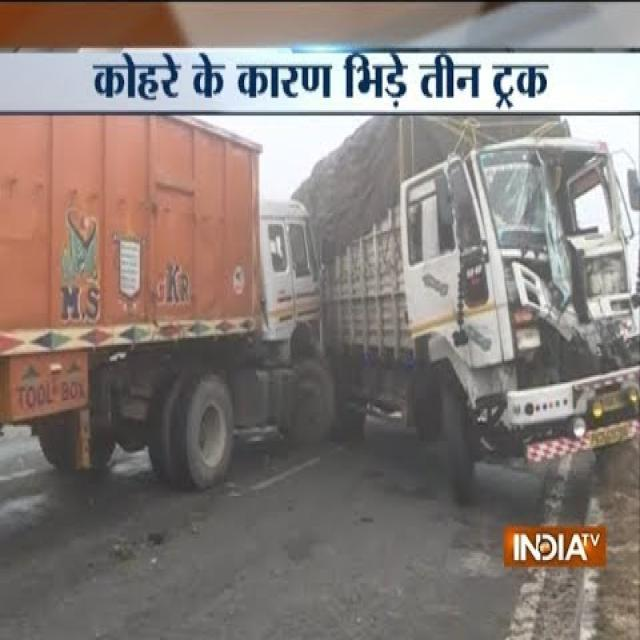accident: (298, 118, 640, 502)
truck: (0, 118, 336, 486)
